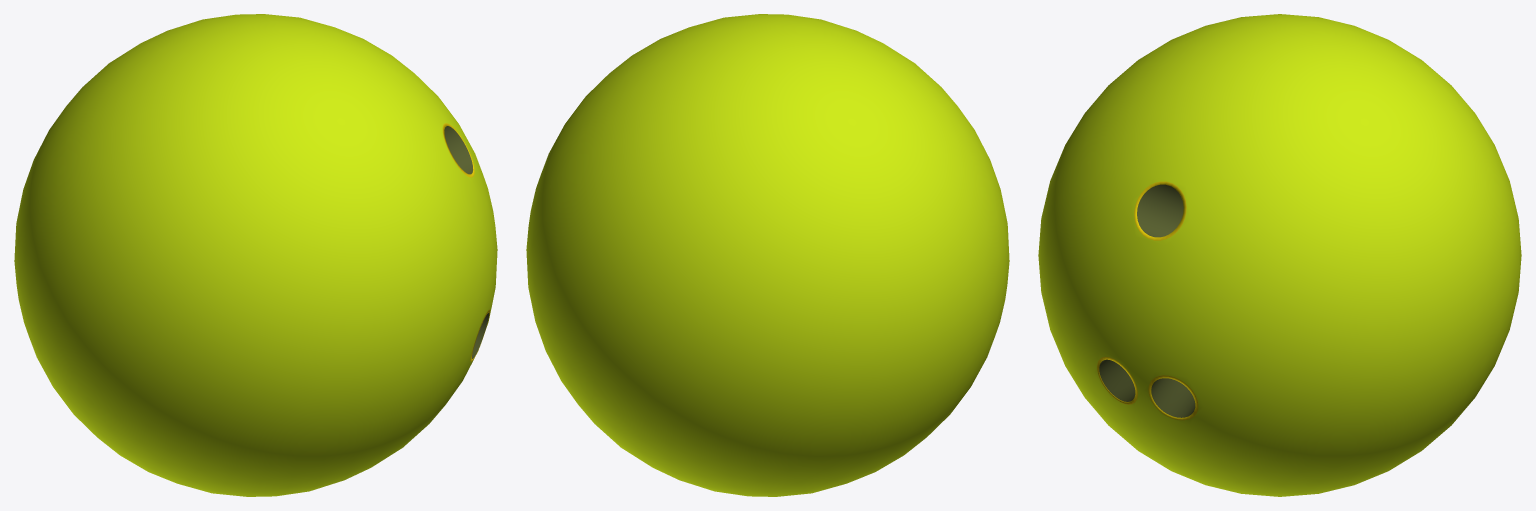
The model's file is bowling_ball.glb.
3 renders of one model, left to right at view 1: azimuth 30°, elevation 25°; view 2: azimuth 150°, elevation 25°; view 3: azimuth 270°, elevation 25°, orthographic.
Visible parts, largest first — view 1: Icosphere; view 2: Icosphere; view 3: Icosphere.
Part boxes in pixels (x1,y1,x2,y2): Icosphere: (14, 14, 497, 496); Icosphere: (526, 14, 1009, 496); Icosphere: (1038, 14, 1521, 496).
Size of the model in its own units: 4.4 by 4.4 by 4.4.
